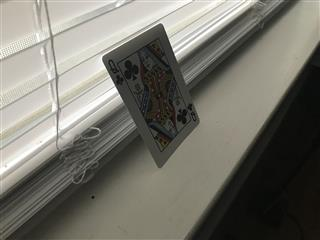QueenOfClubs: (101, 22, 199, 168)
